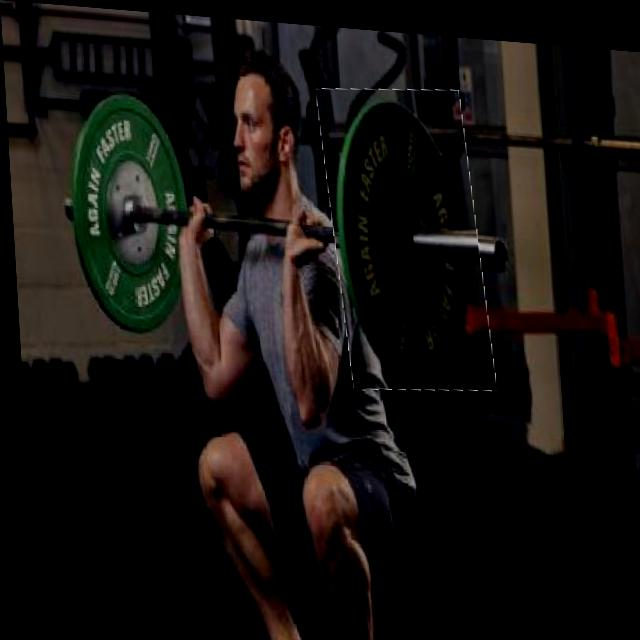barbell: (320, 77, 489, 390)
